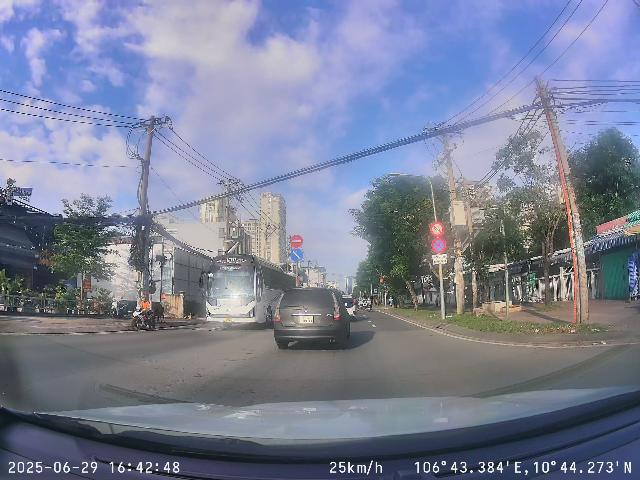102-cam-di-nguoc-chieu: (290, 234, 303, 248)
128-cam-su-dung-coi: (430, 222, 445, 237)
130-cam-dung-va-do-xe: (431, 238, 446, 253)
302a-huong-phai-di-vong-chuong-ngai-vat-1: (290, 249, 303, 262)
